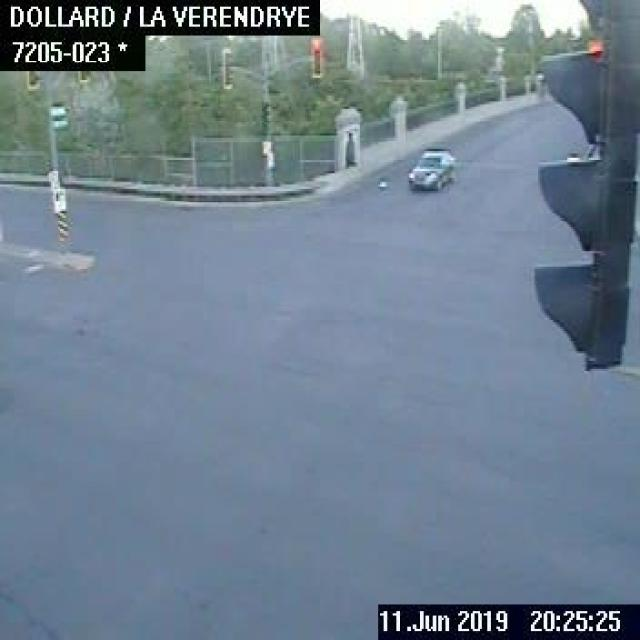vehicle: (404, 143, 454, 189)
